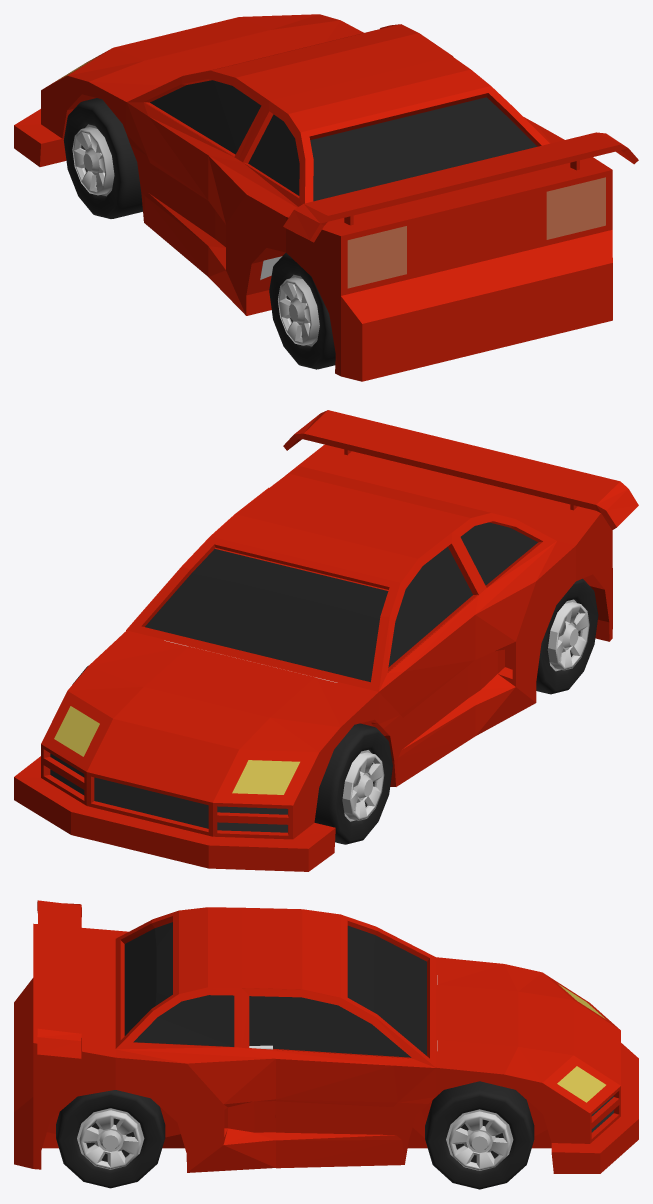
Rendered from minisportcar(door).fbx.
3 views of the same model, one above another, from view 1: azimuth 30°, elevation 25°; view 2: azimuth 150°, elevation 25°; view 3: azimuth 270°, elevation 25° (orthographic). The views are drawn at different scales.
Parts seen in each view (by area): view 1: Cube_002, Cube_002.001, Cylinder_006, Cylinder_007; view 2: Cube_002, Cube_002.001, Cylinder_006, Cylinder_007; view 3: Cube_002, Cube_002.002, Cylinder_005, Cylinder_013.
Part boxes in pixels (left/top/right/bottom): Cube_002: left=14, top=14, right=638, bottom=381; Cube_002.001: left=126, top=70, right=268, bottom=276; Cylinder_006: left=63, top=98, right=142, bottom=218; Cylinder_007: left=269, top=253, right=335, bottom=369; Cube_002: left=14, top=410, right=638, bottom=871; Cube_002.001: left=371, top=533, right=482, bottom=786; Cylinder_006: left=314, top=723, right=392, bottom=844; Cylinder_007: left=536, top=578, right=598, bottom=694; Cube_002: left=14, top=900, right=638, bottom=1173; Cube_002.002: left=242, top=988, right=435, bottom=1168; Cylinder_005: left=425, top=1081, right=534, bottom=1189; Cylinder_013: left=56, top=1090, right=165, bottom=1188.
Size of the model in its own units: 464 by 269 by 837.
